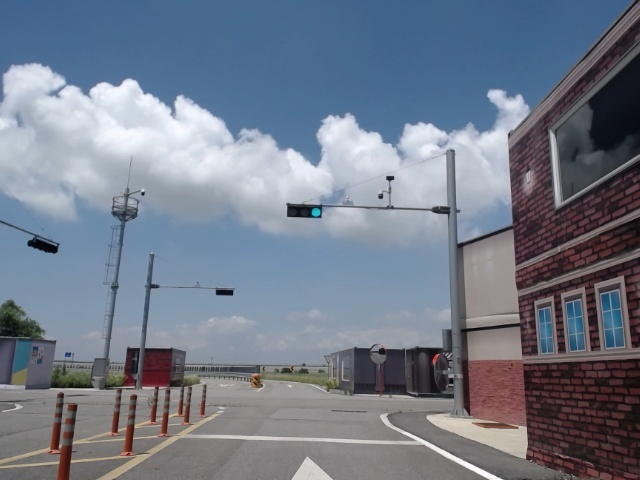green_3: (288, 204, 321, 217)
